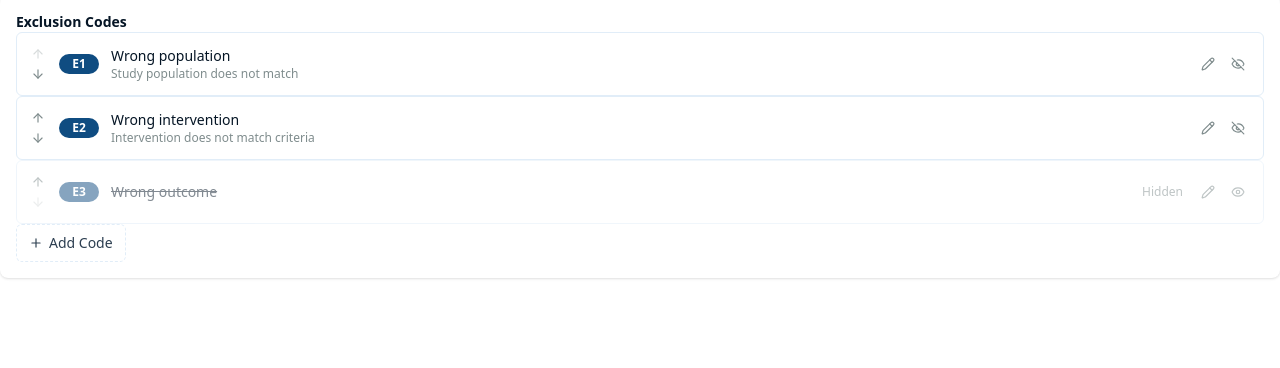
it: ExclusionCodeManager › hides code after confirmation
Click the button with test id "toggle-hide-ec-1" at (1238, 64), box [1225,51,1251,77]
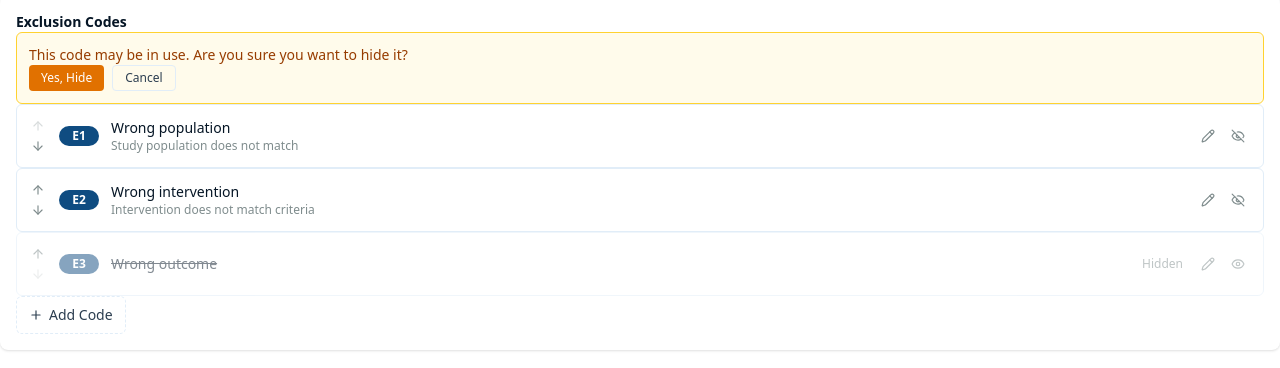
Click the button with test id "confirm-hide-button" at (67, 78), box [29,65,104,91]
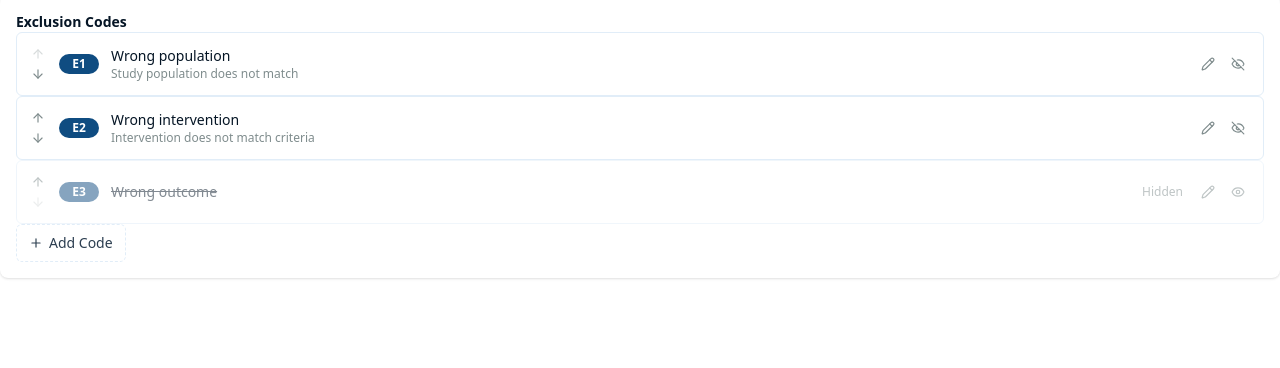
Expected: the element with test id "hide-confirmation-dialog" is gone
